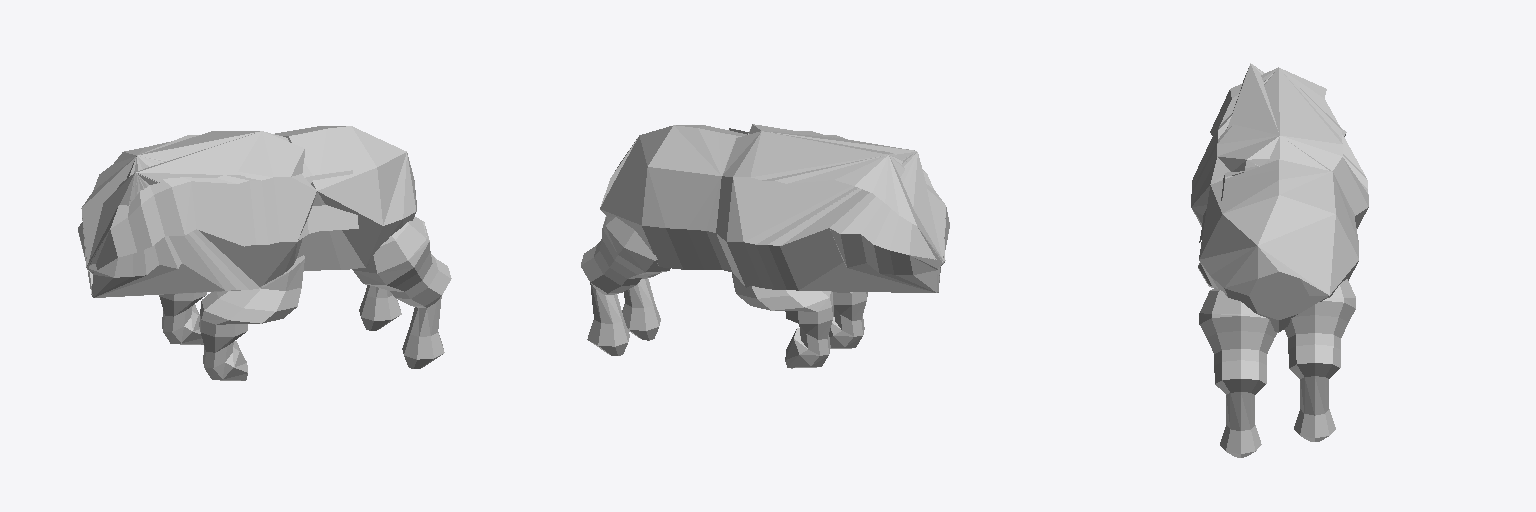
The model's file is martin.obj.
3 views of the same model, side by side, from view 1: azimuth 30°, elevation 25°; view 2: azimuth 150°, elevation 25°; view 3: azimuth 270°, elevation 25° (orthographic).
Parts seen in each view (by area): view 1: mainBody_Cylinder, backLeftLeg.001_frontLeg.001, backLeftLeg_frontLeg; view 2: mainBody_Cylinder, backLeftLeg_frontLeg, backLeftLeg.001_frontLeg.001; view 3: mainBody_Cylinder, backLeftLeg.001_frontLeg.001, backLeftLeg_frontLeg.
Boxes of the visible parts, x1=… form: mainBody_Cylinder: x1=78, y1=126, x2=416, y2=297; backLeftLeg.001_frontLeg.001: x1=199, y1=217, x2=451, y2=380; backLeftLeg_frontLeg: x1=159, y1=285, x2=401, y2=344; mainBody_Cylinder: x1=600, y1=124, x2=949, y2=292; backLeftLeg_frontLeg: x1=581, y1=216, x2=833, y2=368; backLeftLeg.001_frontLeg.001: x1=622, y1=273, x2=867, y2=348; mainBody_Cylinder: x1=1191, y1=63, x2=1368, y2=332; backLeftLeg.001_frontLeg.001: x1=1198, y1=263, x2=1277, y2=457; backLeftLeg_frontLeg: x1=1284, y1=279, x2=1355, y2=441.
Size of the model in its own units: 4.08 by 2.94 by 1.82.